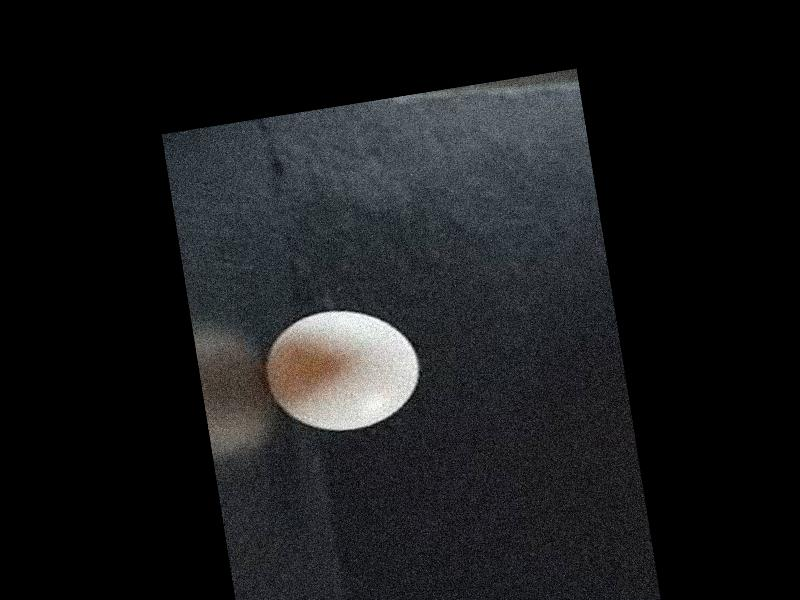Eggs: (259, 298, 430, 440)
